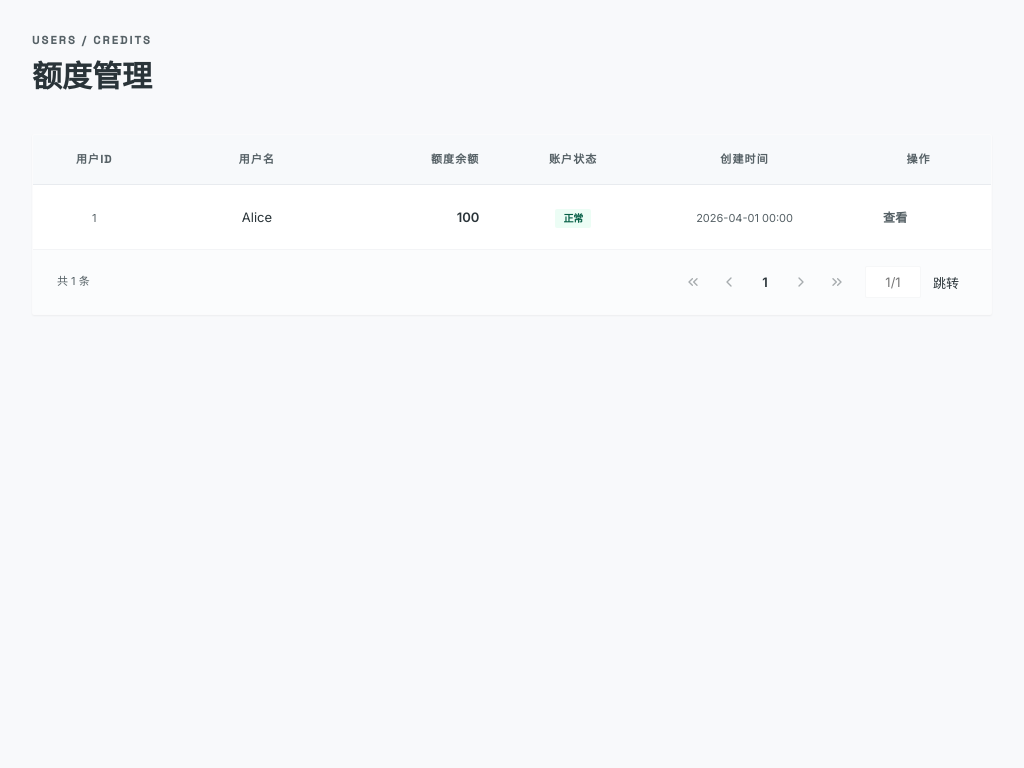
Test: CreditUsersView — F.4 reservations tab › renders 活跃 Reservation tab listing status='reserved' rows
Click the button with test id "row-view-1" at (895, 217), box [870,201,920,233]
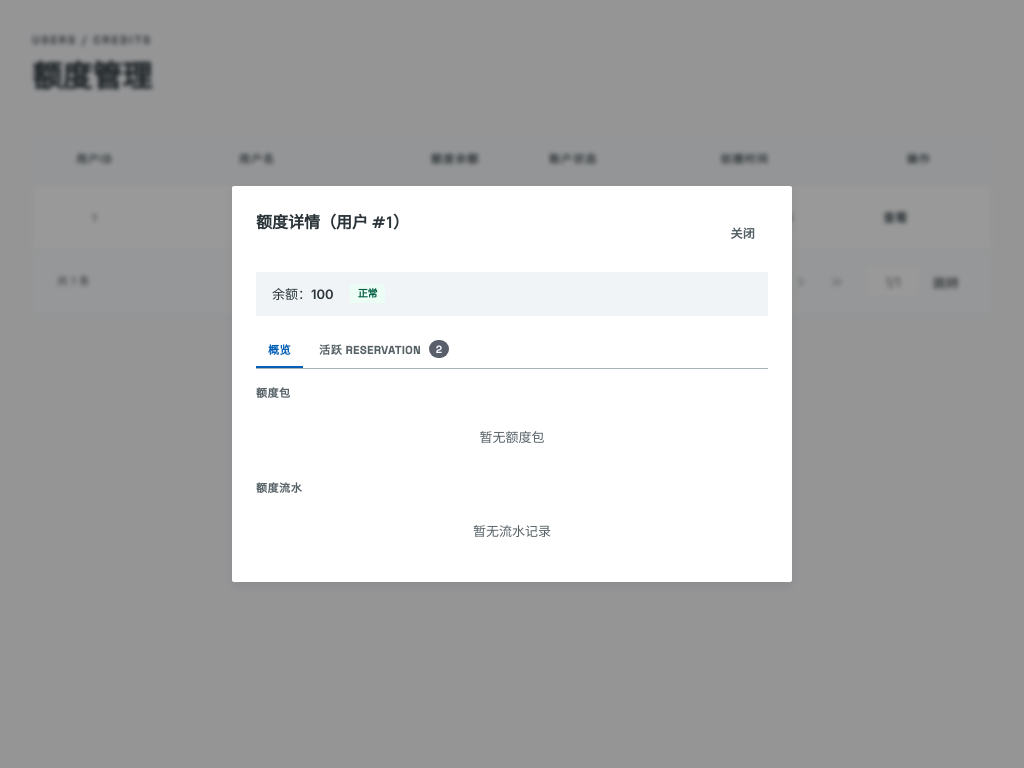
Now the tab with test id "tab-reservations" is shown
Click the tab with test id "tab-reservations" at (384, 350), box [307,332,461,368]
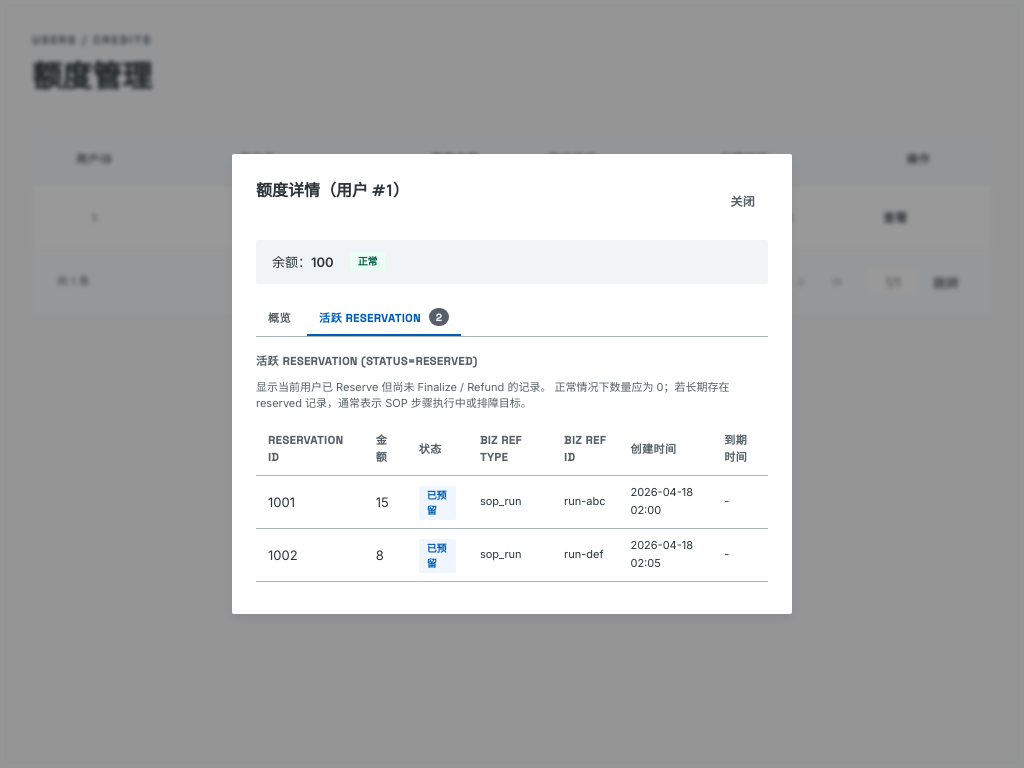
Now the panel with test id "reservations-panel" is shown, box [256,353,768,582]
Now the panel with test id "reservations-panel" shows "1001", box [268,494,295,510]
Now the panel with test id "reservations-panel" shows "1002", box [268,547,298,563]
